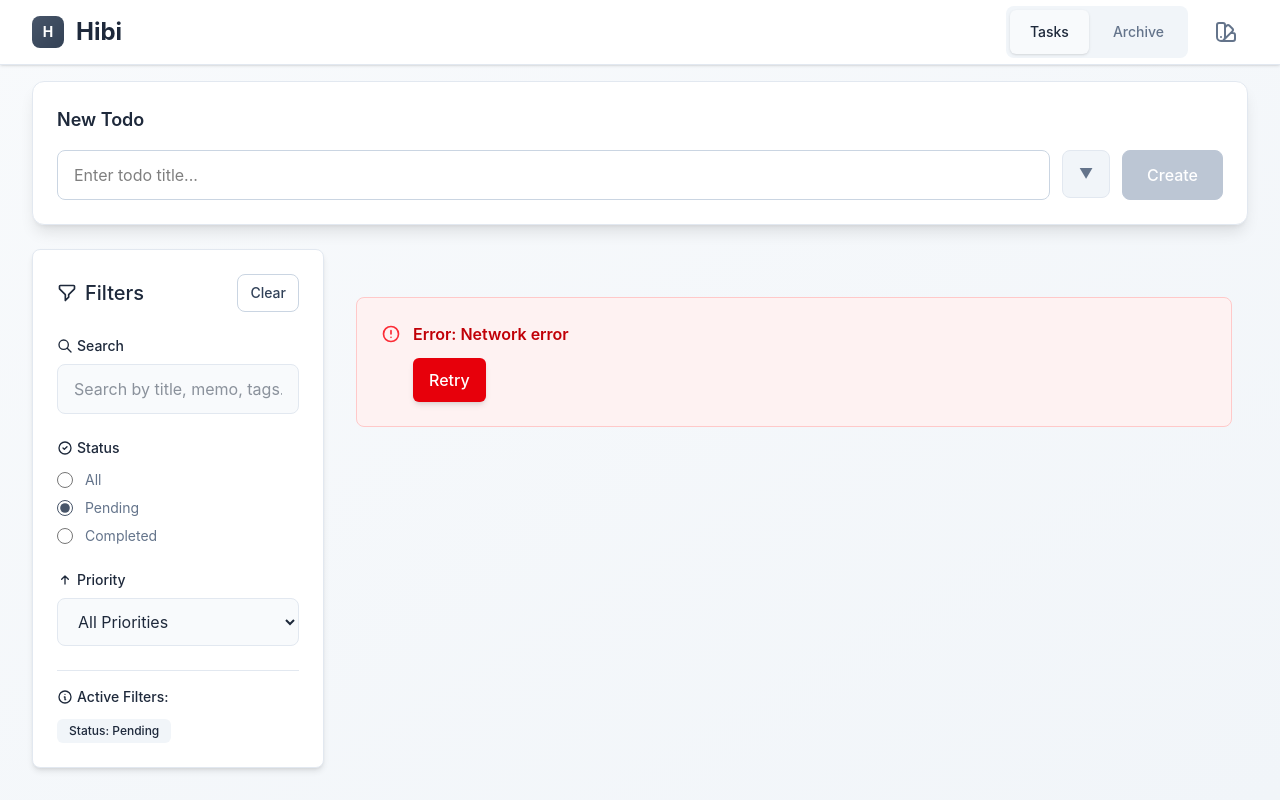
it: フロントエンド統合テスト › エラーハンドリング › API エラーの適切な表示
Expected: the text "Error: Network error" is shown, left=413, top=324, right=569, bottom=344
Click the button "Retry": (449, 380) left=413, top=358, right=486, bottom=402
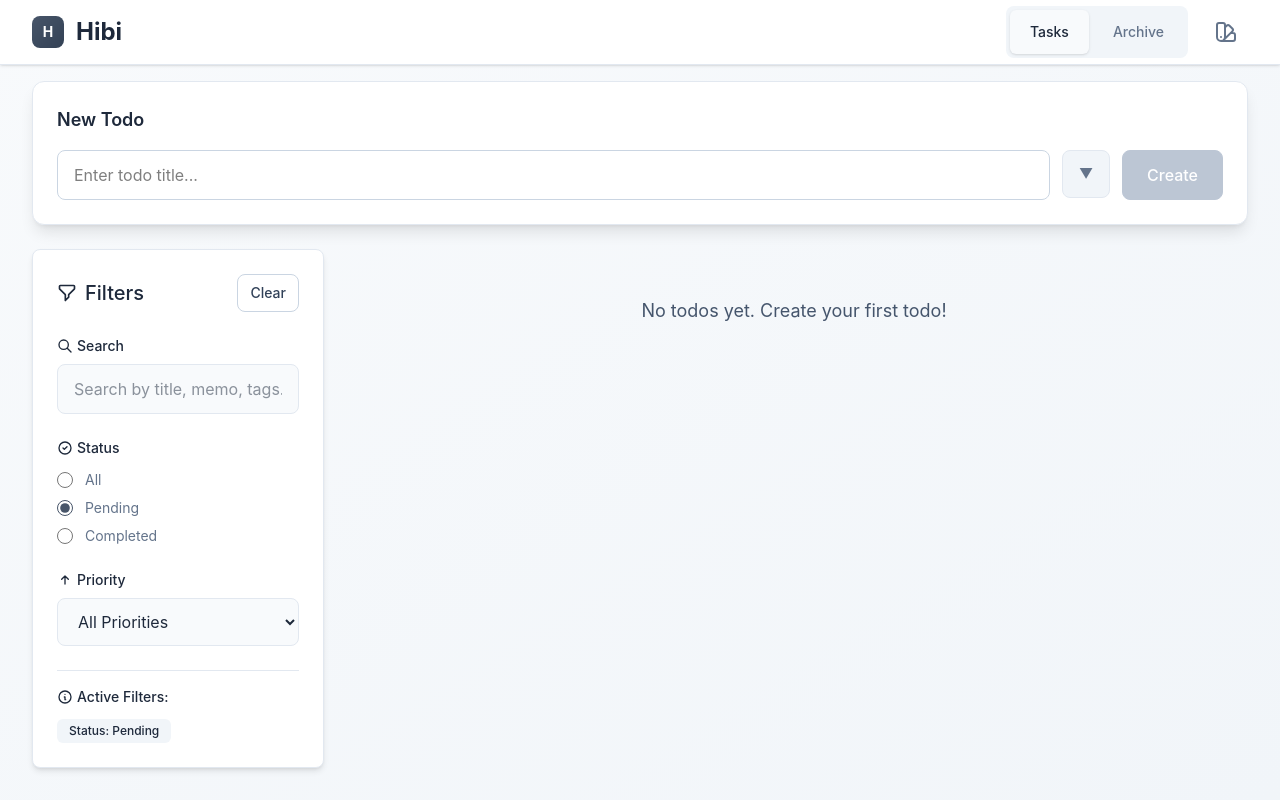
Now the text "No todos yet. Create your first todo!" is shown, box left=641, top=300, right=947, bottom=321
